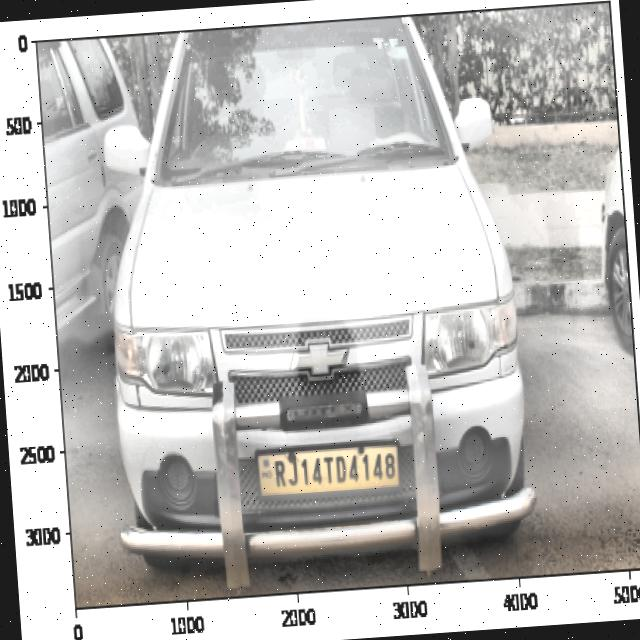license_plate: (267, 442, 402, 496)
